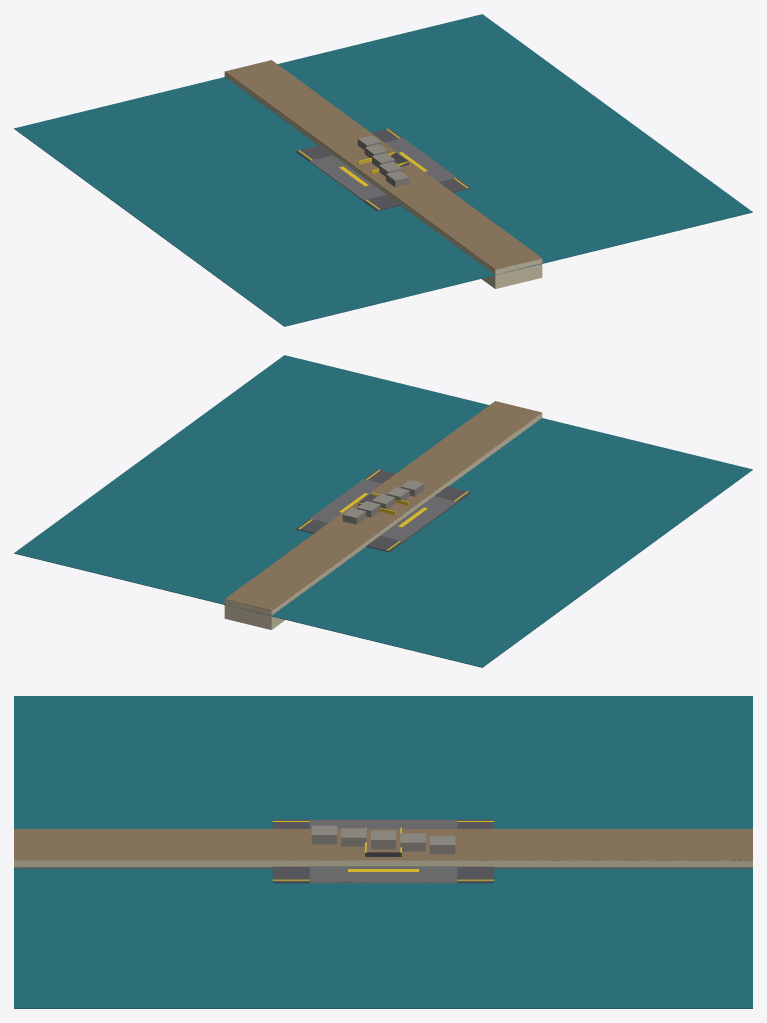
The model's file is Env_Roads.fbx.
The picture shows the model from 3 angles, top to bottom: view 1: azimuth 30°, elevation 25°; view 2: azimuth 150°, elevation 25°; view 3: azimuth 270°, elevation 25°; orthographic projection. The views are drawn at different scales.
Visible parts, largest first — view 1: SM_Water_Tile_cm, SM_Coast_Beach_cm, SM_Helipad_cm, SM_Runway_cm, SM_Cliff_cm; view 2: SM_Water_Tile_cm, SM_Coast_Beach_cm, SM_Helipad_cm, SM_Runway_cm, SM_Cliff_cm; view 3: SM_Water_Tile_cm, SM_Coast_Beach_cm, SM_Helipad_cm, SM_Cliff_cm, SM_Runway_cm, SM_Coast_Quay_cm.
Boxes of the visible parts, <box> form: SM_Water_Tile_cm: <box>14,14,752,326</box>; SM_Coast_Beach_cm: <box>224,60,542,288</box>; SM_Helipad_cm: <box>310,138,456,200</box>; SM_Runway_cm: <box>296,128,470,211</box>; SM_Cliff_cm: <box>357,135,409,187</box>; SM_Water_Tile_cm: <box>14,355,752,667</box>; SM_Coast_Beach_cm: <box>224,401,542,629</box>; SM_Helipad_cm: <box>310,479,456,541</box>; SM_Runway_cm: <box>296,469,470,552</box>; SM_Cliff_cm: <box>342,480,424,524</box>; SM_Water_Tile_cm: <box>14,696,752,1008</box>; SM_Coast_Beach_cm: <box>14,829,752,866</box>; SM_Helipad_cm: <box>309,819,457,883</box>; SM_Cliff_cm: <box>311,825,455,854</box>; SM_Runway_cm: <box>272,819,494,883</box>; SM_Coast_Quay_cm: <box>14,866,752,868</box>.
Bounding box in the file's own units: 10000 × 10000 × 1750.
